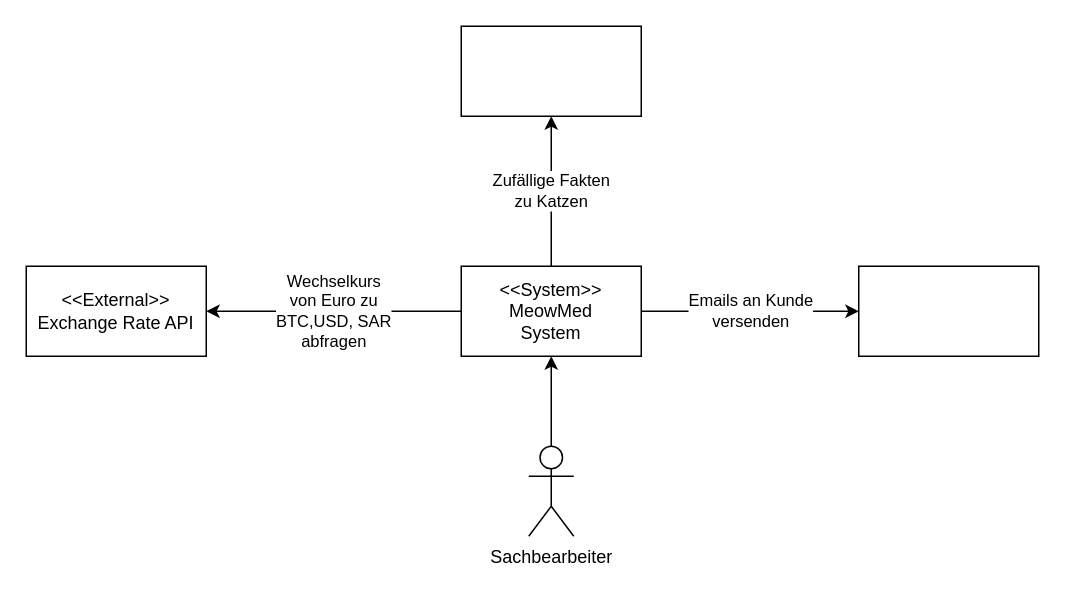
Image size: 1065x594. Some labels were removed from this diagram. Here are the shapes that lost their labels. From the top down, the box of each, then its label:
(460, 25, 641, 116): <<External>> Cat Facts API
(857, 265, 1039, 356): <<External>> Google Mail
